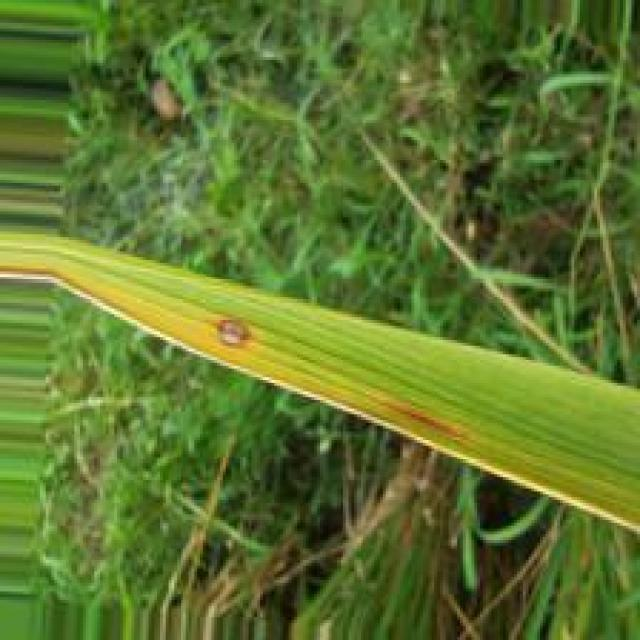Brown_Spot: (374, 395, 484, 451), (213, 311, 258, 346)
